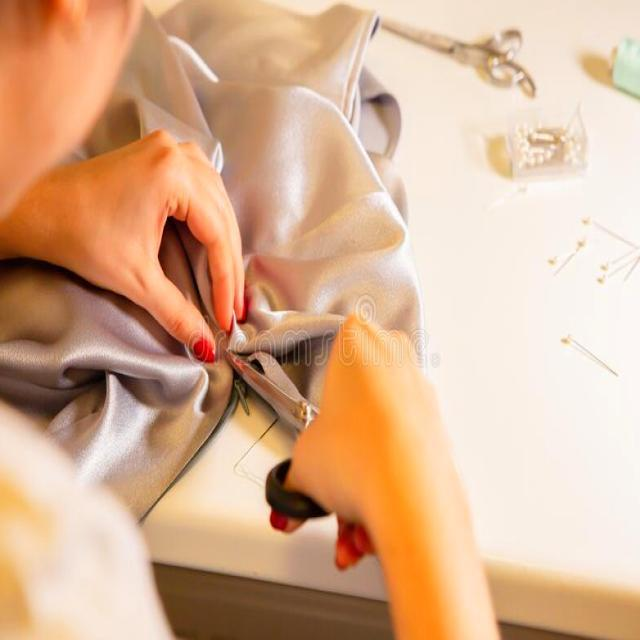clothes: (256, 0, 442, 317), (22, 336, 164, 514), (156, 0, 272, 163)
